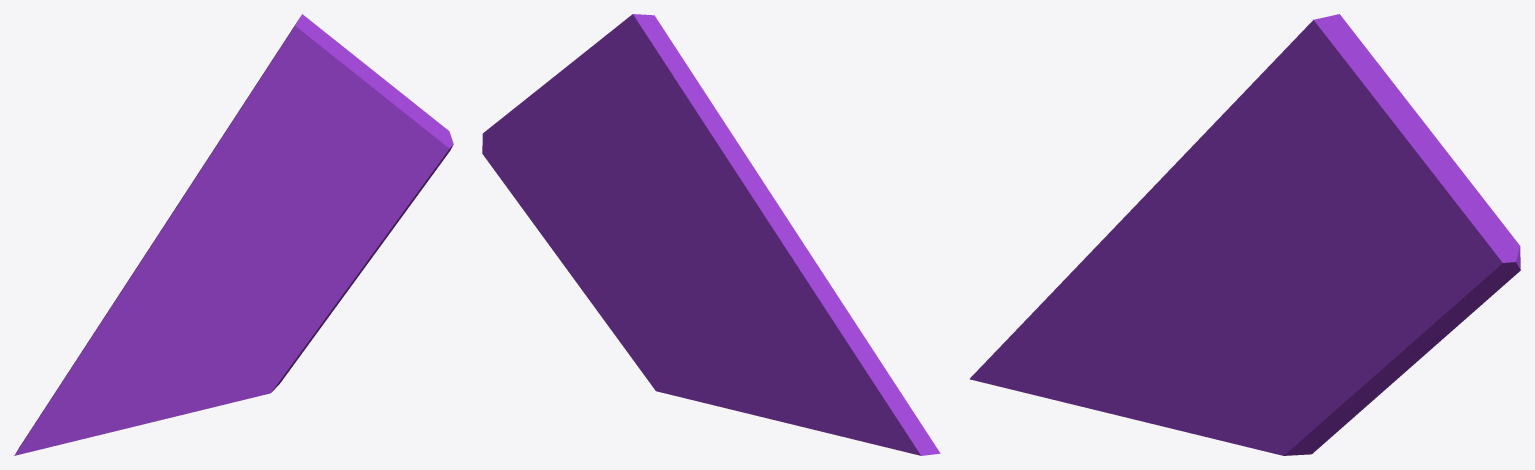
The model's file is Window_40_7_chunks.fbx.
3 renders of one model, left to right at view 1: azimuth 30°, elevation 25°; view 2: azimuth 150°, elevation 25°; view 3: azimuth 330°, elevation 25°, orthographic. The views are drawn at different scales.
Visible parts, largest first — view 1: Window_40_7_2, Window_40_7_3, Window_40_7_1, Window_40_7_6, Window_40_7_0, Window_40_7_5; view 2: Window_40_7_3, Window_40_7_2, Window_40_7_0, Window_40_7_6, Window_40_7_1, Window_40_7_5, Window_40_7_4; view 3: Window_40_7_2, Window_40_7_3, Window_40_7_1, Window_40_7_6, Window_40_7_0, Window_40_7_5.
Part boxes in pixels (left/top/right/bottom): Window_40_7_2: left=204, top=14, right=394, bottom=235; Window_40_7_3: left=14, top=272, right=210, bottom=455; Window_40_7_1: left=234, top=209, right=404, bottom=401; Window_40_7_6: left=132, top=160, right=290, bottom=297; Window_40_7_0: left=324, top=73, right=453, bottom=221; Window_40_7_5: left=210, top=231, right=297, bottom=407; Window_40_7_3: left=728, top=270, right=940, bottom=455; Window_40_7_2: left=558, top=14, right=746, bottom=219; Window_40_7_0: left=482, top=74, right=646, bottom=237; Window_40_7_6: left=654, top=157, right=820, bottom=292; Window_40_7_1: left=532, top=221, right=702, bottom=402; Window_40_7_5: left=643, top=246, right=729, bottom=408; Window_40_7_4: left=640, top=214, right=736, bottom=308; Window_40_7_2: left=1202, top=14, right=1435, bottom=279; Window_40_7_3: left=969, top=228, right=1210, bottom=437; Window_40_7_1: left=1239, top=277, right=1461, bottom=455; Window_40_7_6: left=1114, top=136, right=1307, bottom=303; Window_40_7_0: left=1349, top=131, right=1520, bottom=322; Window_40_7_5: left=1209, top=268, right=1316, bottom=444.
Size of the model in its own units: 981 by 772 by 27.2.
